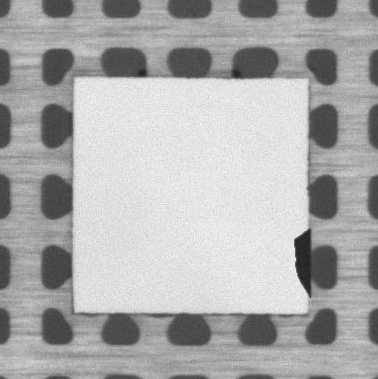DIE_BROKEN: (291, 230, 313, 293)
